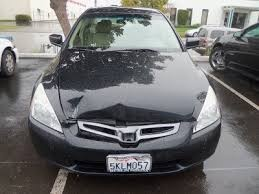Dent: (64, 93, 198, 129)
